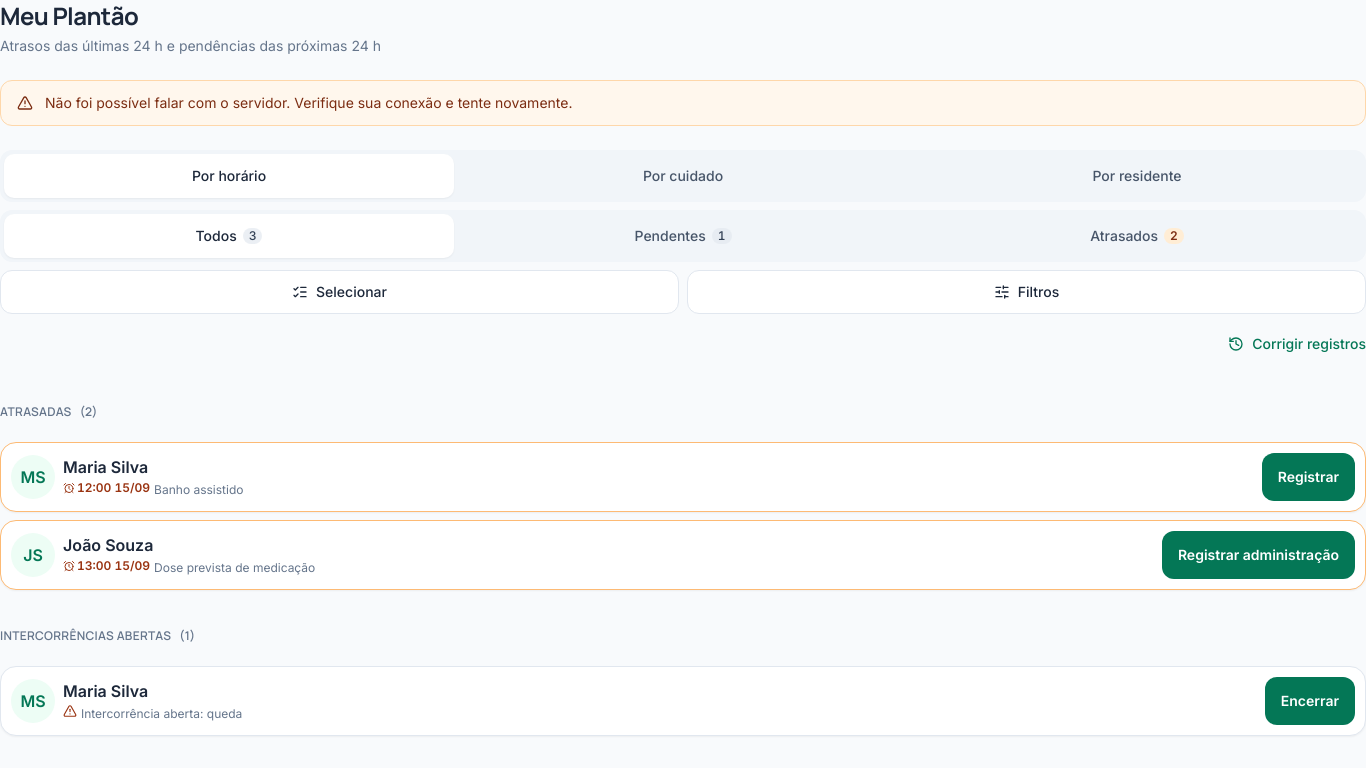
Test: MeuPlantao — conflito de concorrência › 13. erro do backend é exibido e a projeção é recarregada
Click the button "Registrar". click: coordinates (1308, 477)
box: [1262,453,1355,501]
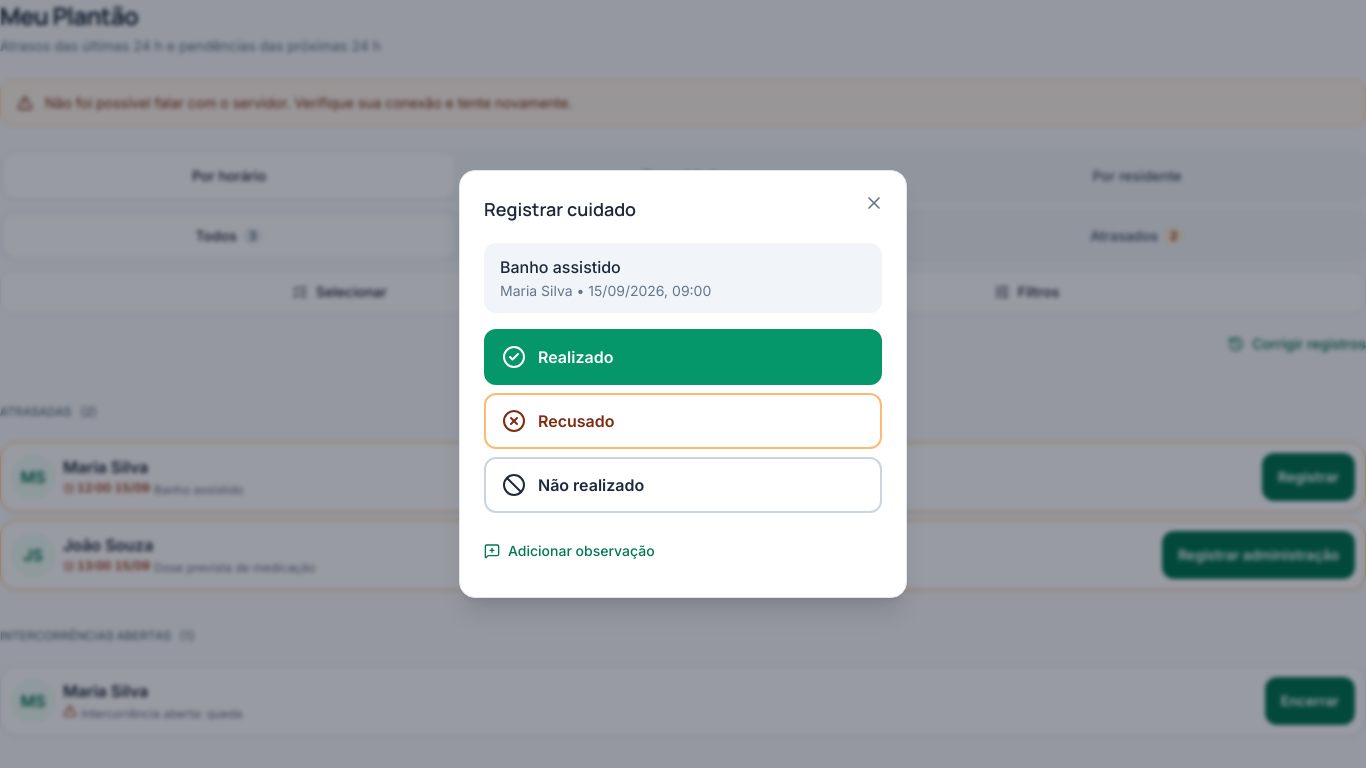
Click the button "Realizado". click: coordinates (576, 357)
box: [484,329,882,385]
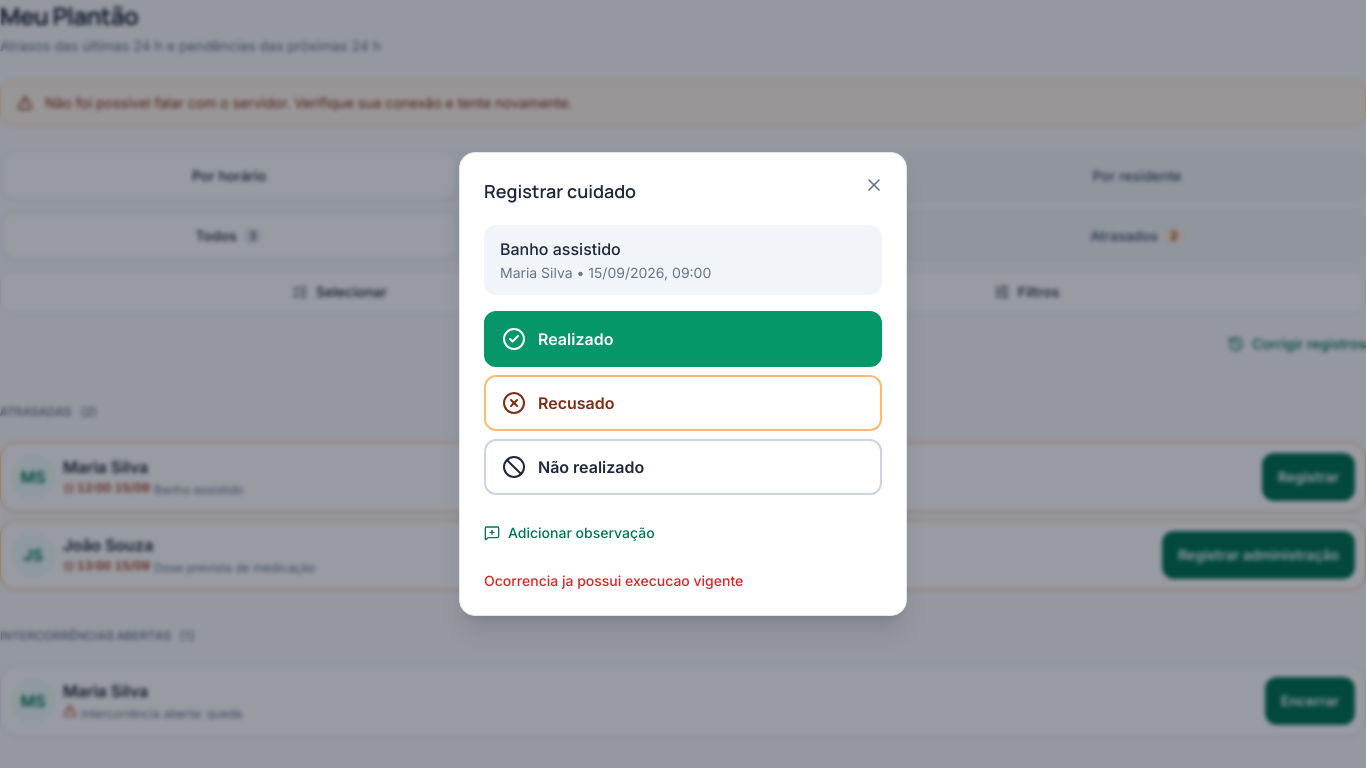
Result: the text "Ocorrencia ja possui execucao vigente" is shown at [484,572,743,589]
